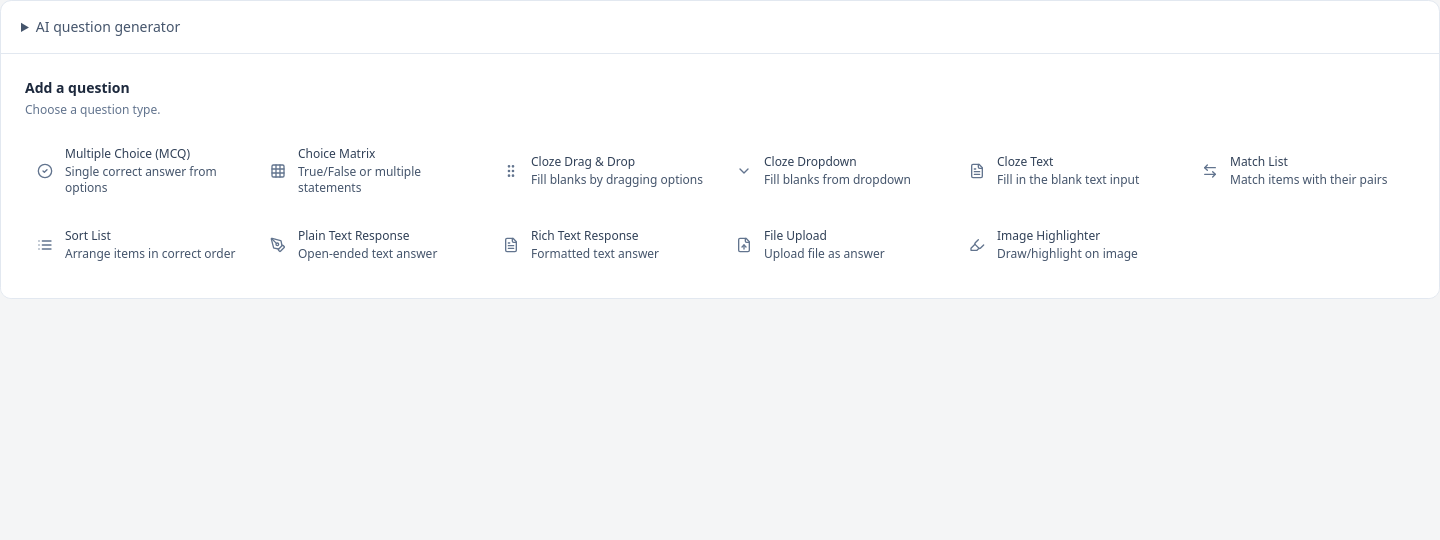
Test: InlineTryoutBuilder AI generation — RAG-grounded, non-mcq types › normalizes a cloze_text response into text + correctAnswers
Click the heading "AI question generator" at (108, 26), box top-left (36, 17), bottom-right (180, 36)
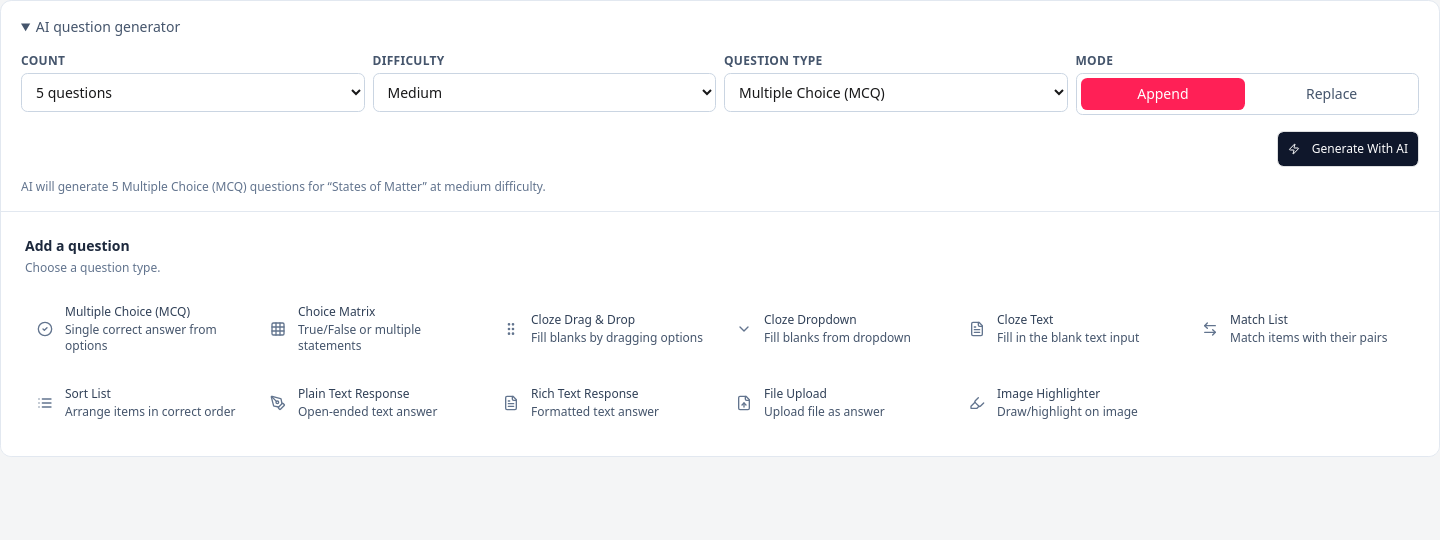
Select "Cloze Text" in the dropdown named "Question Type" at (896, 92), box top-left (724, 73), bottom-right (1068, 112)
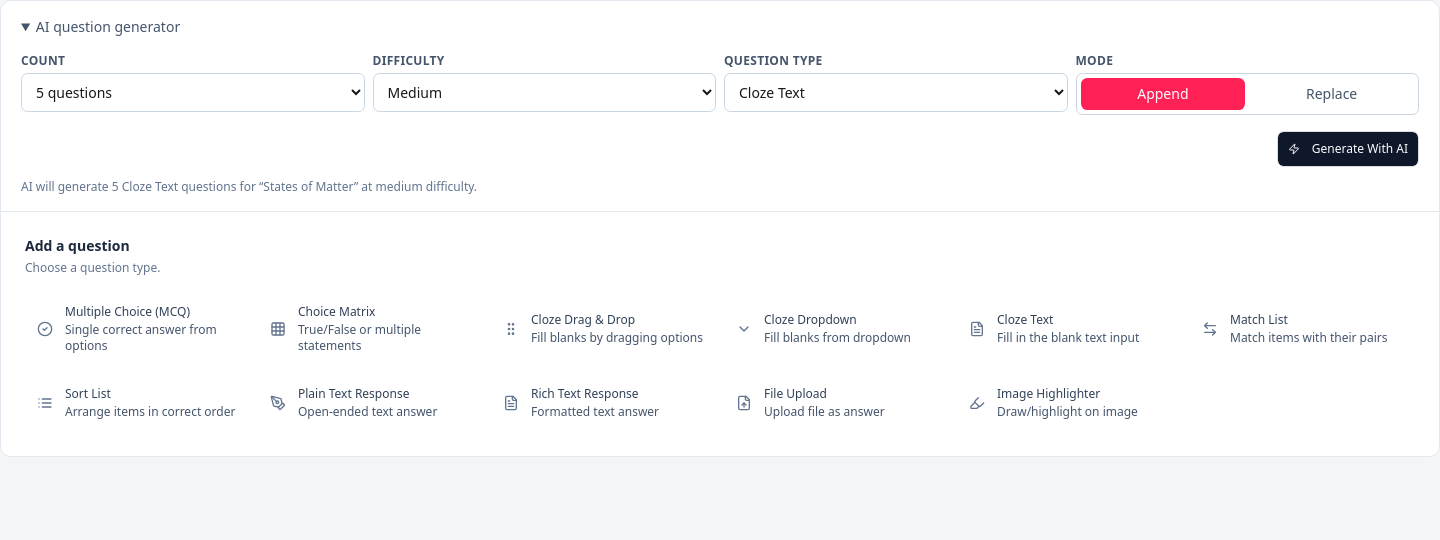
Click the button "Generate With AI" at (1348, 149), box top-left (1277, 131), bottom-right (1419, 167)
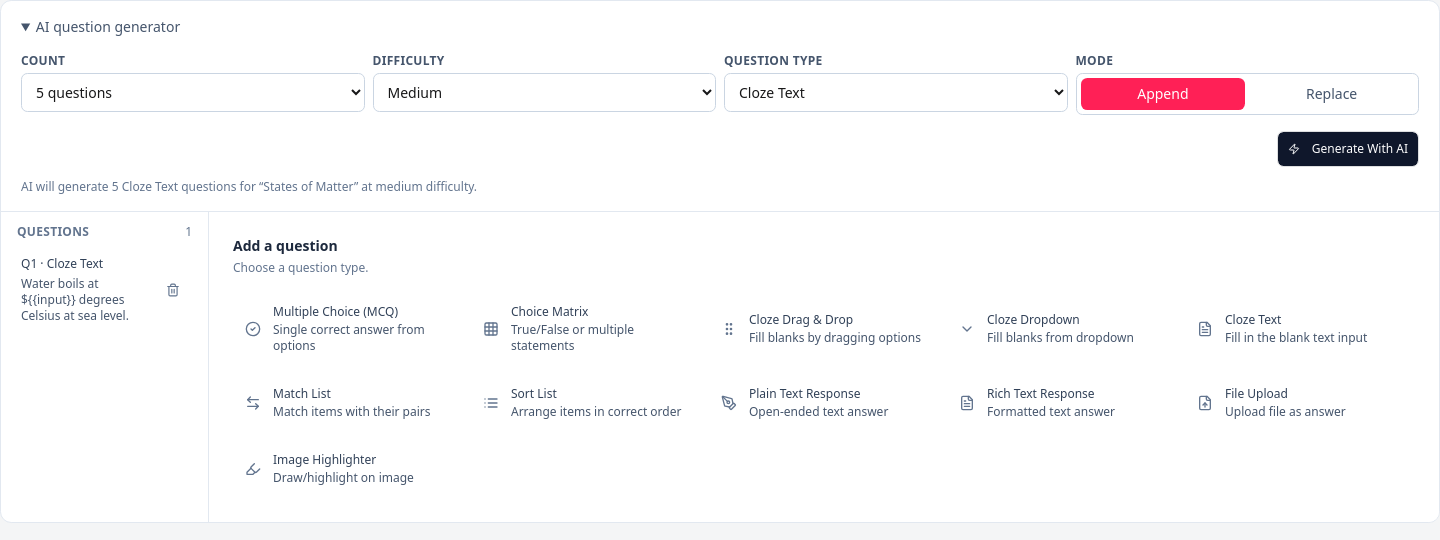
Result: the text "Water boils at ${{input}} degrees Celsius at sea level." is shown at top-left (21, 275), bottom-right (129, 324)
